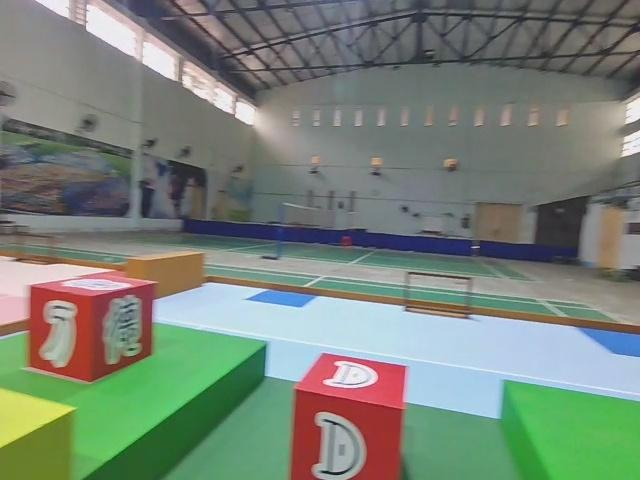R2 Fake: (27, 270, 155, 383)
R2 Real: (288, 349, 409, 480)
